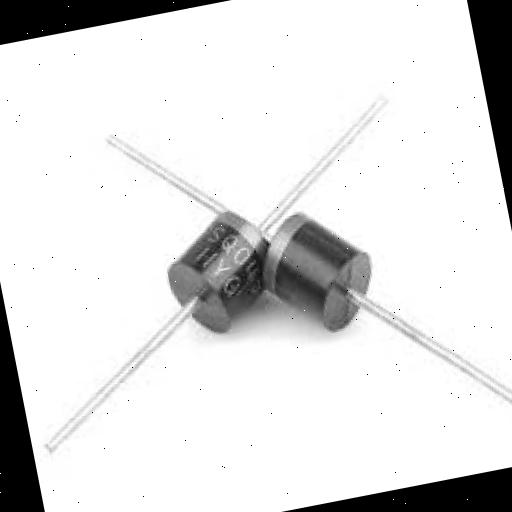DIODE: (0, 60, 512, 509), (104, 168, 296, 378), (245, 188, 380, 355)
